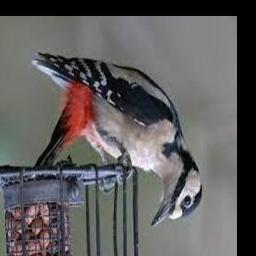Woodpecker: (32, 53, 203, 228)
